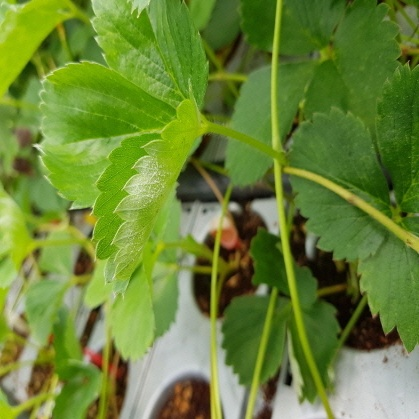Powdery_Leaf: (207, 79, 327, 298)
